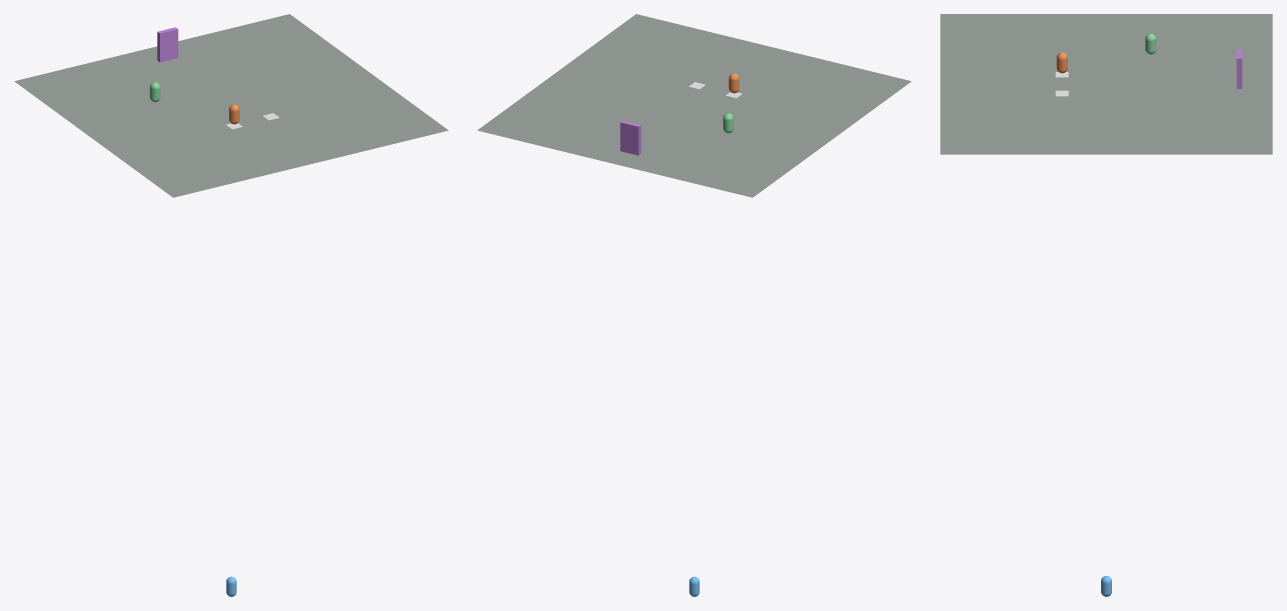
3 renders of one model, left to right at view 1: azimuth 30°, elevation 25°; view 2: azimuth 150°, elevation 25°; view 3: azimuth 270°, elevation 25°, orthographic. The views are drawn at different scales.
Parts seen in each view (by area): view 1: Ground, Exit; view 2: Ground, Exit; view 3: Ground.
Part boxes in pixels (<box>): Ground: <box>14,14,448,197</box>; Exit: <box>157,27,178,62</box>; Ground: <box>477,14,911,197</box>; Exit: <box>620,120,641,155</box>; Ground: <box>940,14,1272,154</box>.
Size of the model in its own units: 30 by 54 by 30.
